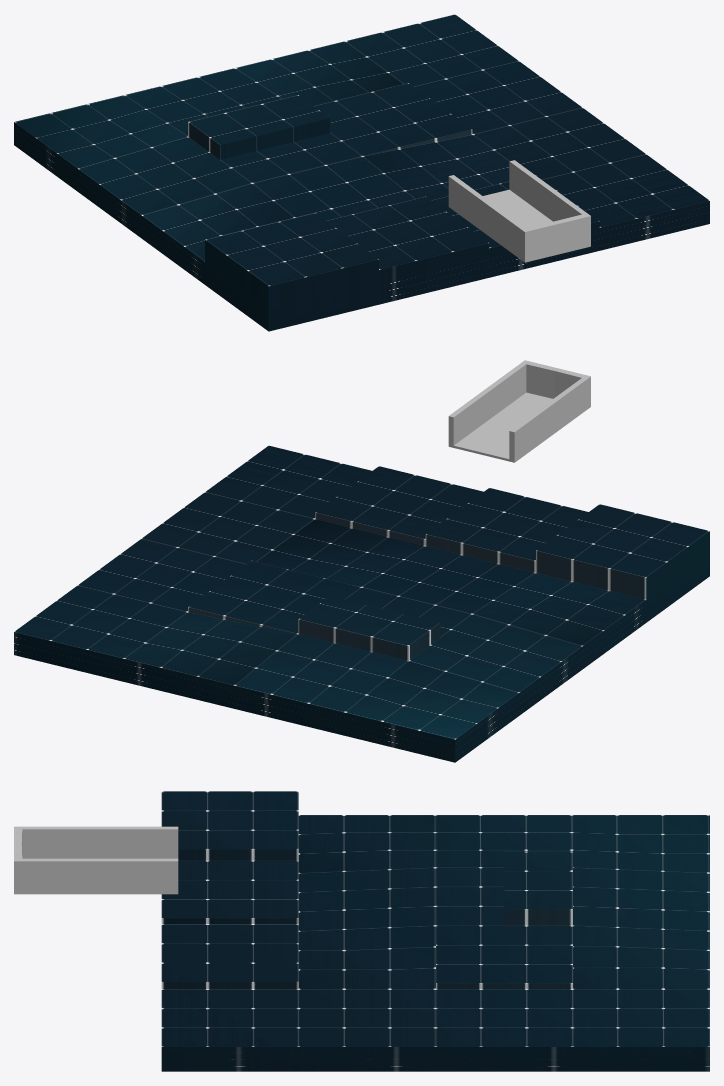
The model's file is Stage.gltf.
The picture shows the model from 3 angles, top to bottom: view 1: azimuth 30°, elevation 25°; view 2: azimuth 150°, elevation 25°; view 3: azimuth 270°, elevation 25°; orthographic projection. The views are drawn at different scales.
Parts seen in each view (by area): view 1: Cube.001, Start; view 2: Cube.001, Start; view 3: Cube.001, Start.
Boxes of the visible parts, left/top/right/bottom form: Cube.001: left=14, top=14, right=709, bottom=331; Start: left=448, top=160, right=590, bottom=262; Cube.001: left=14, top=445, right=709, bottom=762; Start: left=448, top=360, right=590, bottom=462; Cube.001: left=161, top=791, right=709, bottom=1071; Start: left=14, top=826, right=178, bottom=894.
Size of the model in its own units: 40 by 9 by 50.78.
